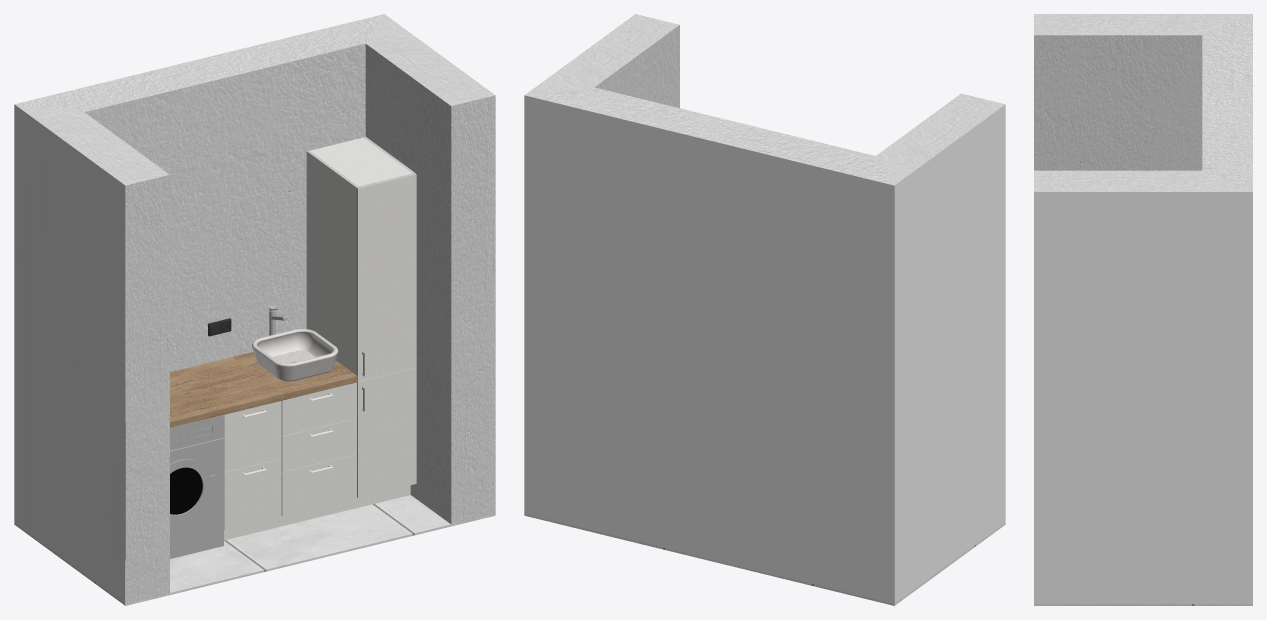
The model's file is sanvuzol-48.glb.
3 views of the same model, side by side, from view 1: azimuth 30°, elevation 25°; view 2: azimuth 150°, elevation 25°; view 3: azimuth 270°, elevation 25° (orthographic).
Parts seen in each view (by area): view 1: L, F, R, фасад (×2), Фасад (×5), підлога, Боковина ліва, Стиралка Bosch WHA122XMOE, Стільниця, Мойка Ванная KERAMA MARAZZI PLAZA 55Х36 PL.WB.55, Кришка, Цоколь; view 2: F, L, R, підлога; view 3: R, L, F, підлога.
Boxes of the visible parts, left/top/right/bottom form: L: left=14, top=104, right=169, bottom=603; F: left=15, top=14, right=384, bottom=382; R: left=365, top=14, right=495, bottom=524; фасад (×2): left=356, top=173, right=416, bottom=497; Фасад (×5): left=224, top=382, right=356, bottom=530; підлога: left=14, top=495, right=495, bottom=605; Боковина ліва: left=306, top=150, right=358, bottom=374; Стиралка Bosch WHA122XMOE: left=125, top=415, right=224, bottom=560; Стільниця: left=125, top=351, right=357, bottom=428; Мойка Ванная KERAMA MARAZZI PLAZA 55Х36 PL.WB.55: left=252, top=329, right=338, bottom=381; Кришка: left=310, top=137, right=412, bottom=186; Цоколь: left=224, top=485, right=410, bottom=540; F: left=524, top=87, right=894, bottom=603; L: left=876, top=93, right=1005, bottom=603; R: left=525, top=14, right=679, bottom=107; підлога: left=524, top=513, right=1005, bottom=605; R: left=1034, top=170, right=1252, bottom=603; L: left=1034, top=14, right=1252, bottom=170; F: left=1202, top=14, right=1252, bottom=191; підлога: left=1034, top=604, right=1252, bottom=605.
Bounding box in the file's own units: 2500 × 2713 × 1300.
17 materials, 6 textured.
